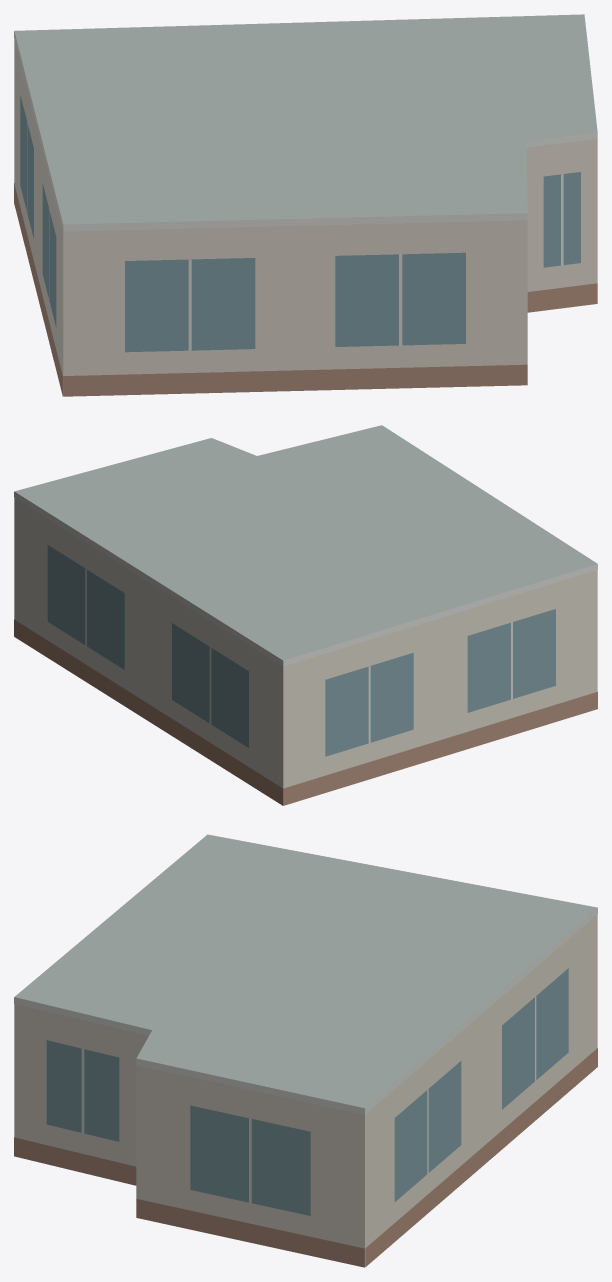
Rendered from survey-upis-32633685.glb.
3 views of the same model, one above another, from view 1: azimuth 30°, elevation 25°; view 2: azimuth 150°, elevation 25°; view 3: azimuth 270°, elevation 25° (orthographic). The views are drawn at different scales.
Visible parts, largest first — view 1: survey-upis-32633685.tmp; view 2: survey-upis-32633685.tmp; view 3: survey-upis-32633685.tmp.
Part boxes in pixels (x1,y1,x2,y2): survey-upis-32633685.tmp: (14,14,597,396); survey-upis-32633685.tmp: (14,425,597,805); survey-upis-32633685.tmp: (14,834,597,1267).
Bounding box in the file's own units: 11.26 × 3.05 × 10.14.
